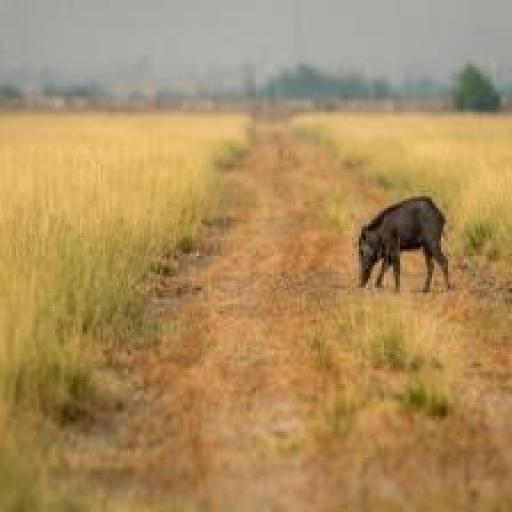Pig: (352, 192, 459, 295)
